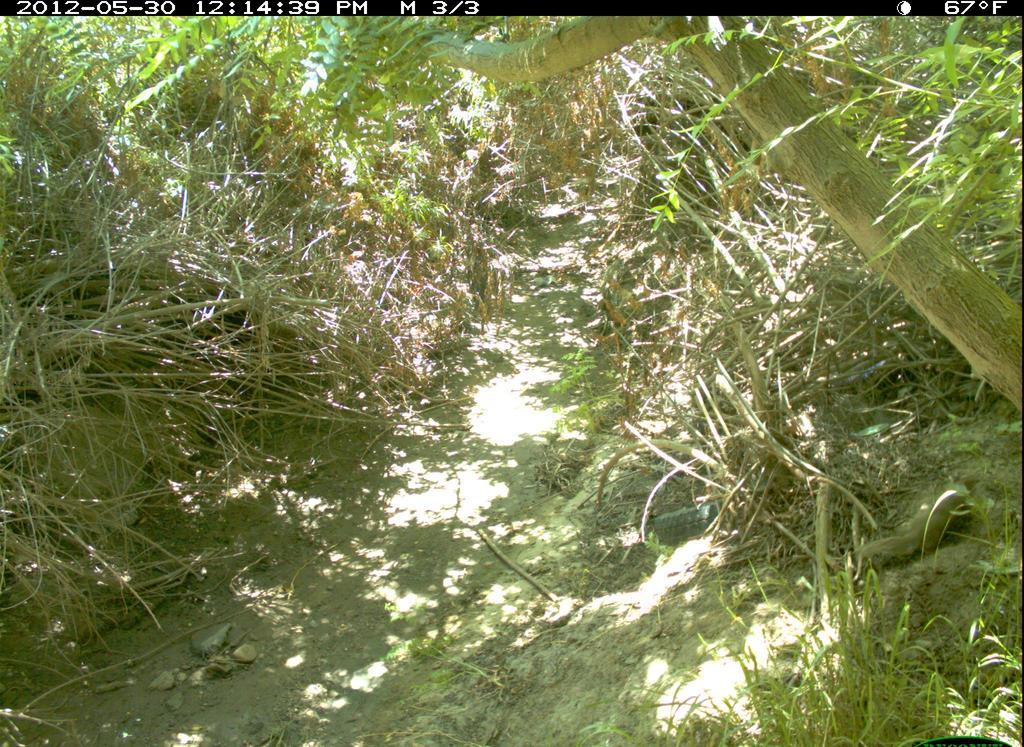squirrel: (845, 469, 980, 575)
